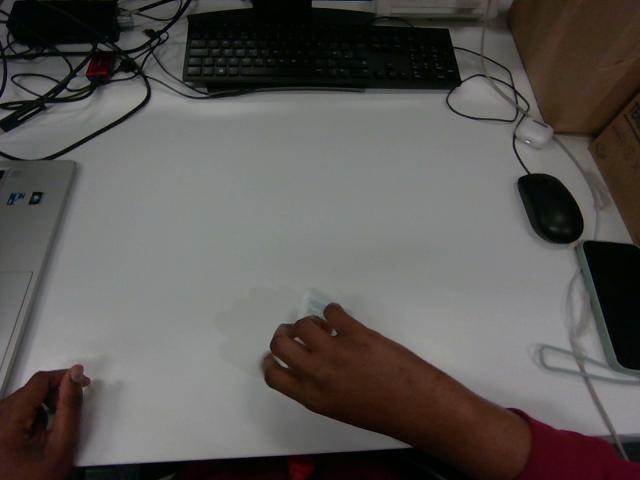gauze: (299, 289, 333, 318)
